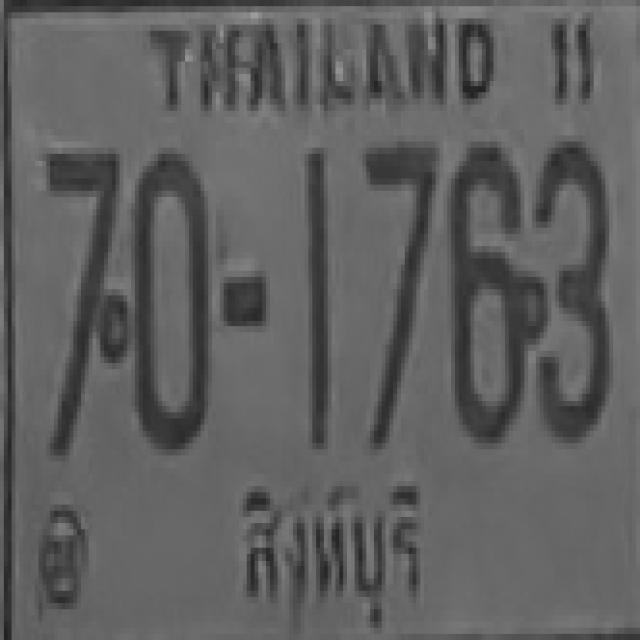0: (131, 148, 208, 443)
1: (304, 148, 328, 449)
3: (528, 135, 609, 437)
6: (447, 135, 532, 437)
7: (42, 145, 120, 452), (362, 139, 436, 446)
SingBuri: (234, 471, 431, 638)
